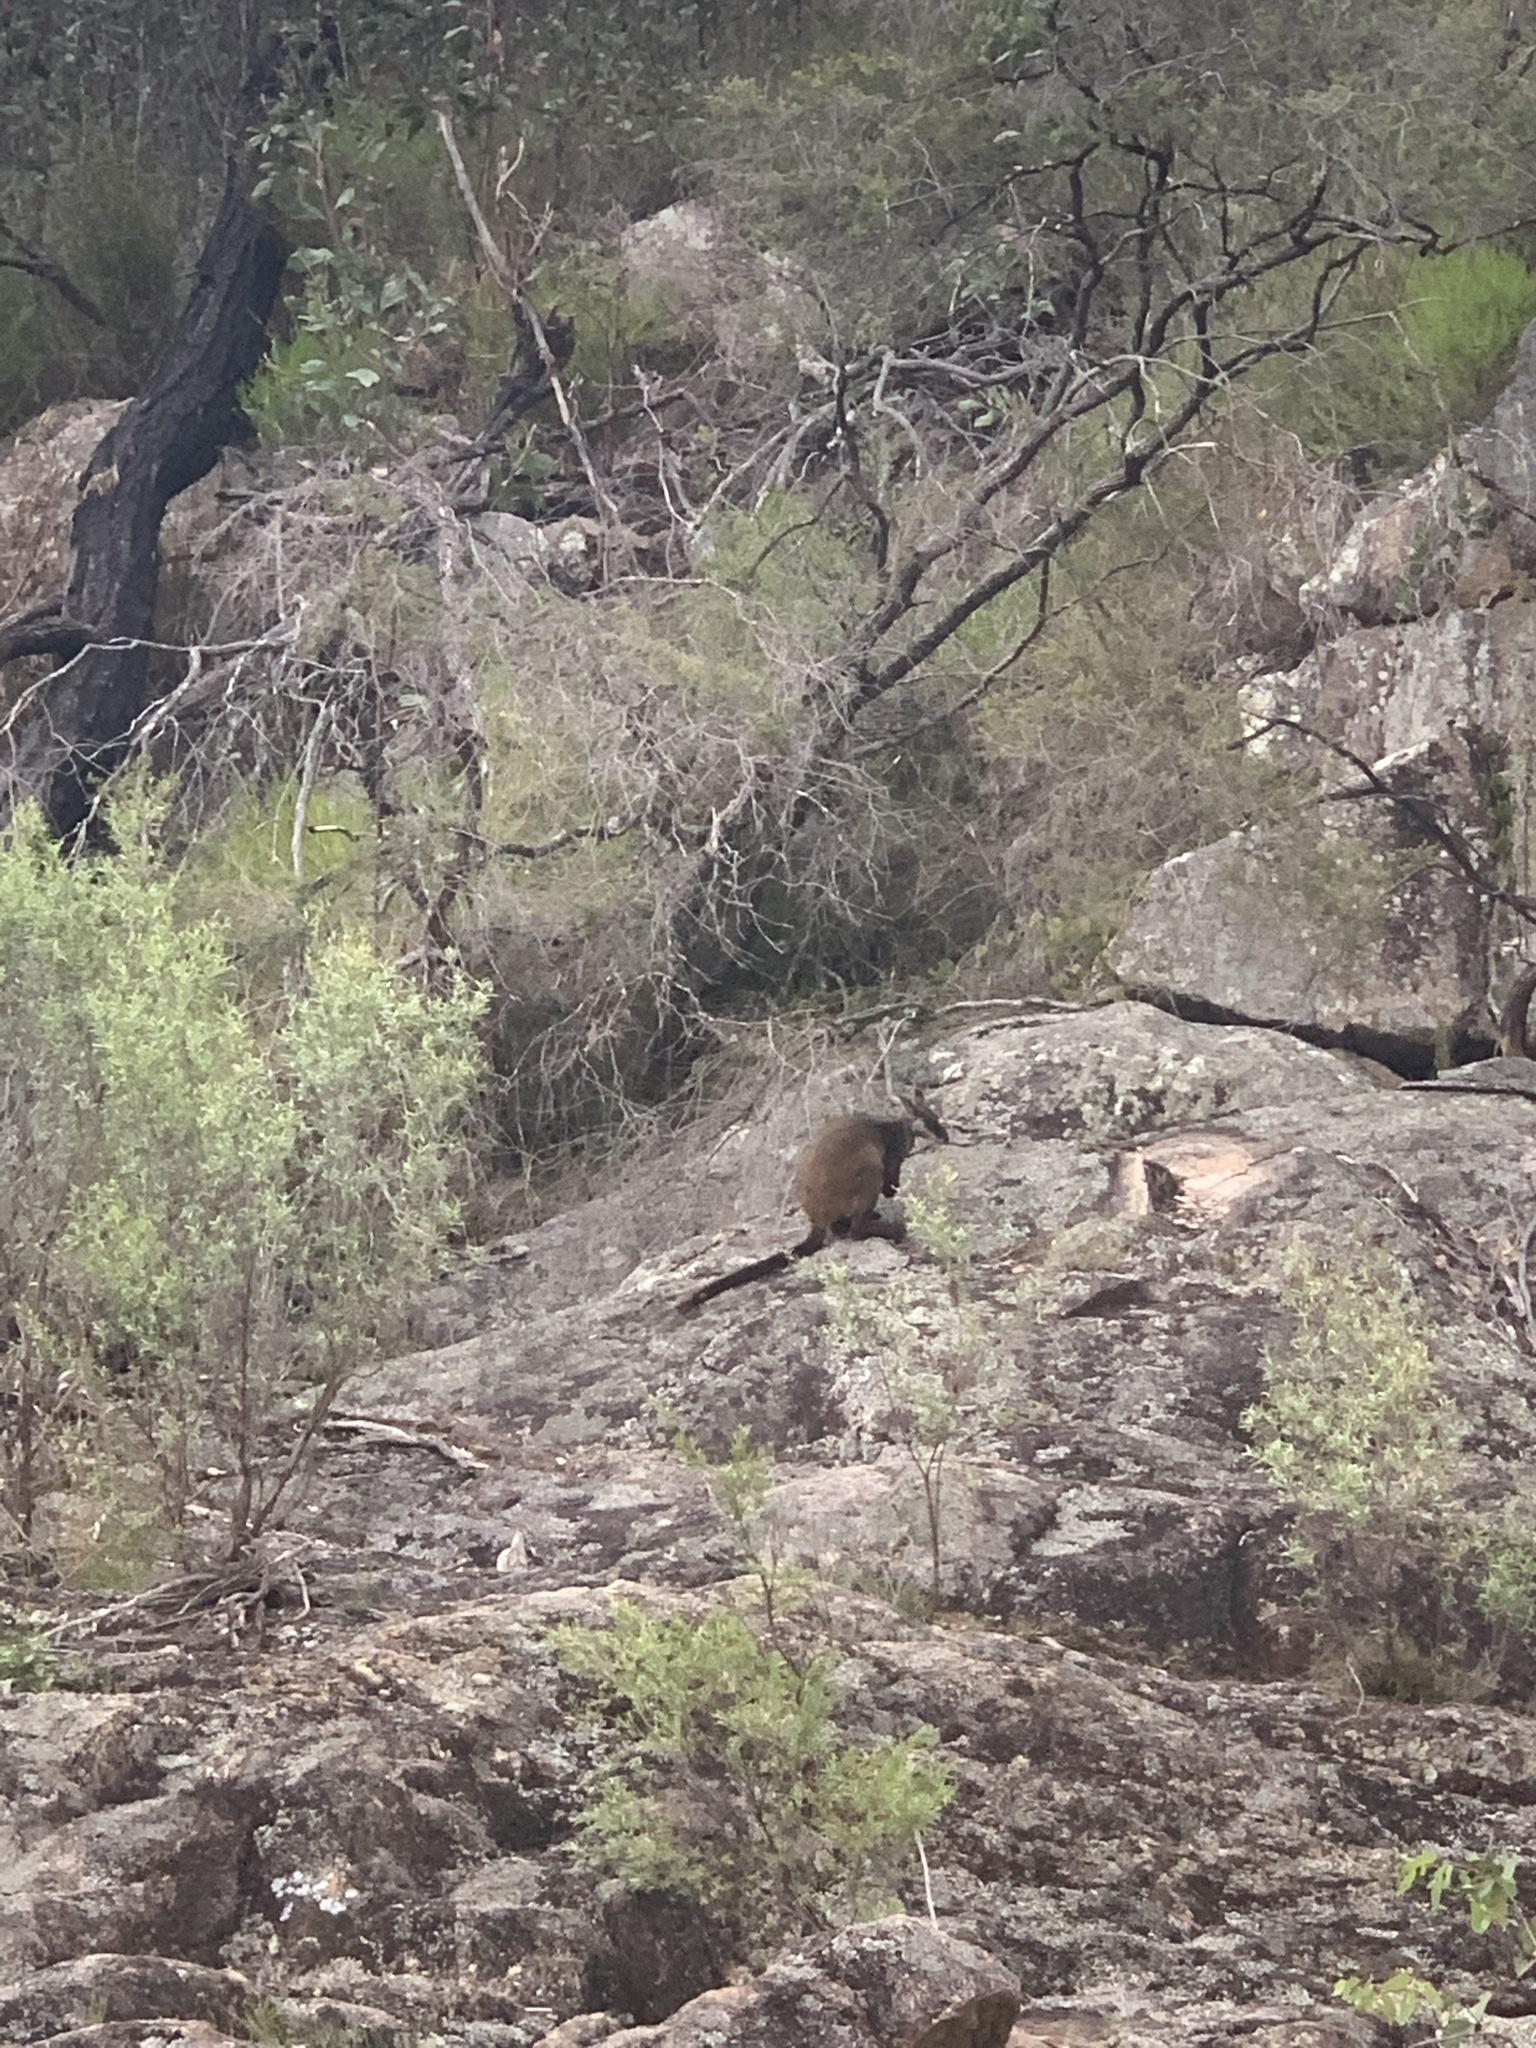Brush-tailed rock-wallaby: (660, 1087, 960, 1321)
